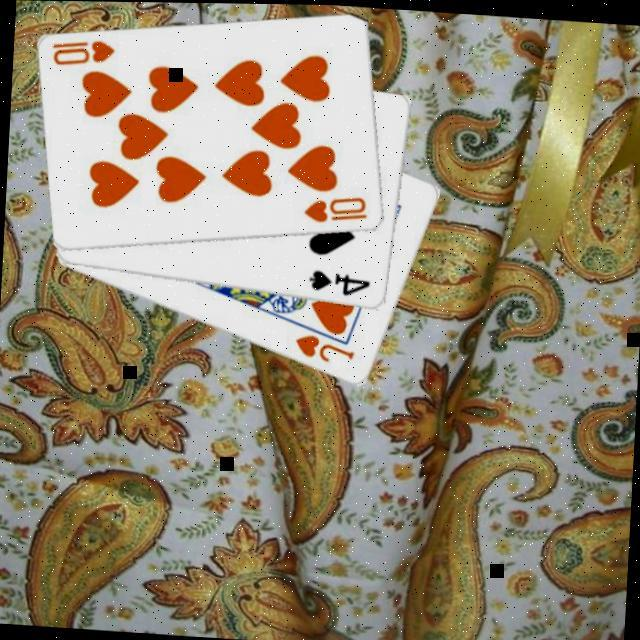10H: (302, 189, 373, 228), (50, 33, 120, 72)
4S: (307, 264, 376, 300)
JH: (293, 330, 361, 366)
